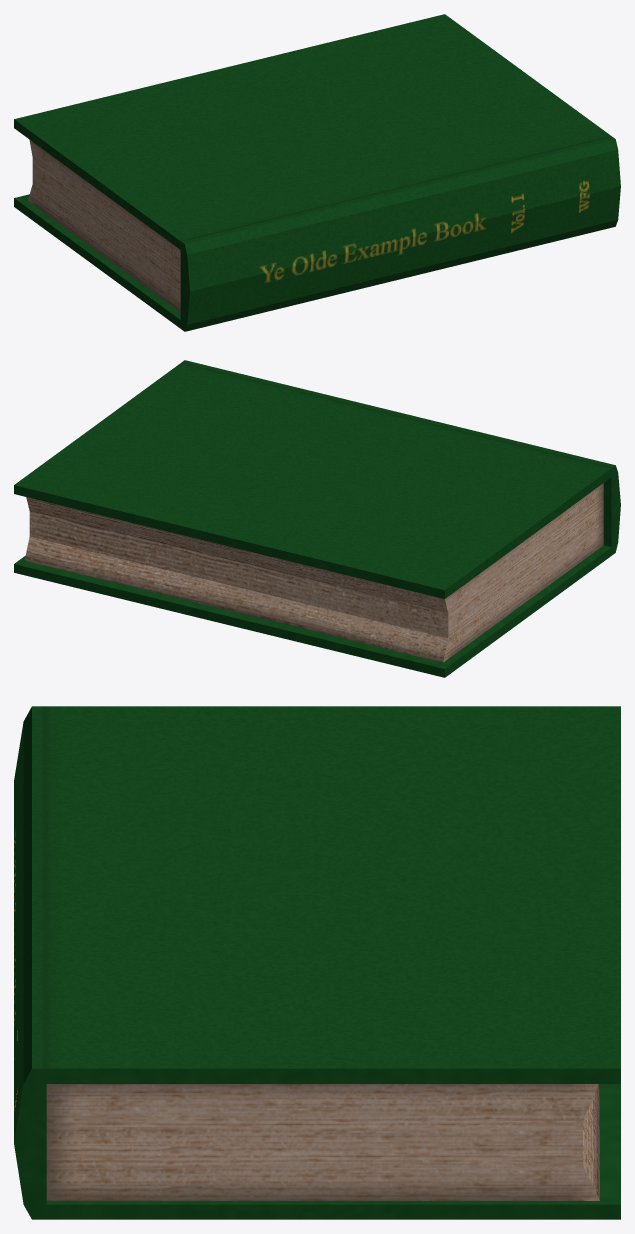
The model's file is book.obj.
3 renders of one model, top to bottom at view 1: azimuth 30°, elevation 25°; view 2: azimuth 150°, elevation 25°; view 3: azimuth 270°, elevation 25°, orthographic. The views are drawn at different scales.
Parts seen in each view (by area): view 1: Book_Cube.001; view 2: Book_Cube.001; view 3: Book_Cube.001.
Boxes of the visible parts, box(x1,y1,x2,y2) form: Book_Cube.001: box(14, 14, 620, 331); Book_Cube.001: box(14, 360, 620, 677); Book_Cube.001: box(14, 706, 620, 1219).
Bounding box in the file's own units: 5.15 × 1 × 3.64.
